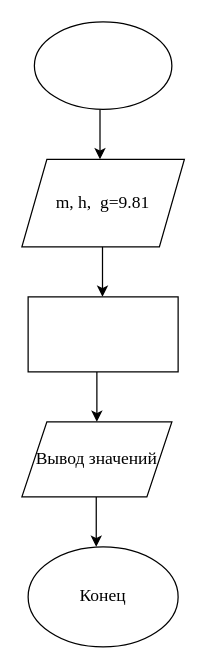
Image size: 206x669. Some labels were removed from this diagram. The box of each missing label's shape, as (x1, y1, x2, y2) in pixels:
f=m*g: (27, 296, 178, 372)
Начало: (33, 21, 172, 109)
